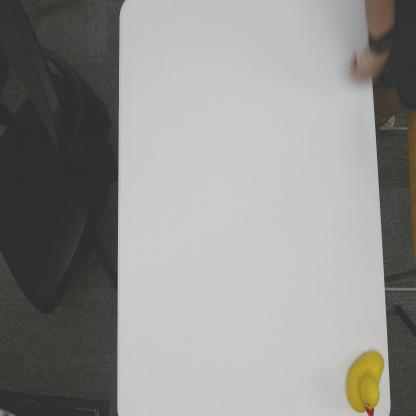Duck: (344, 346, 386, 416)
